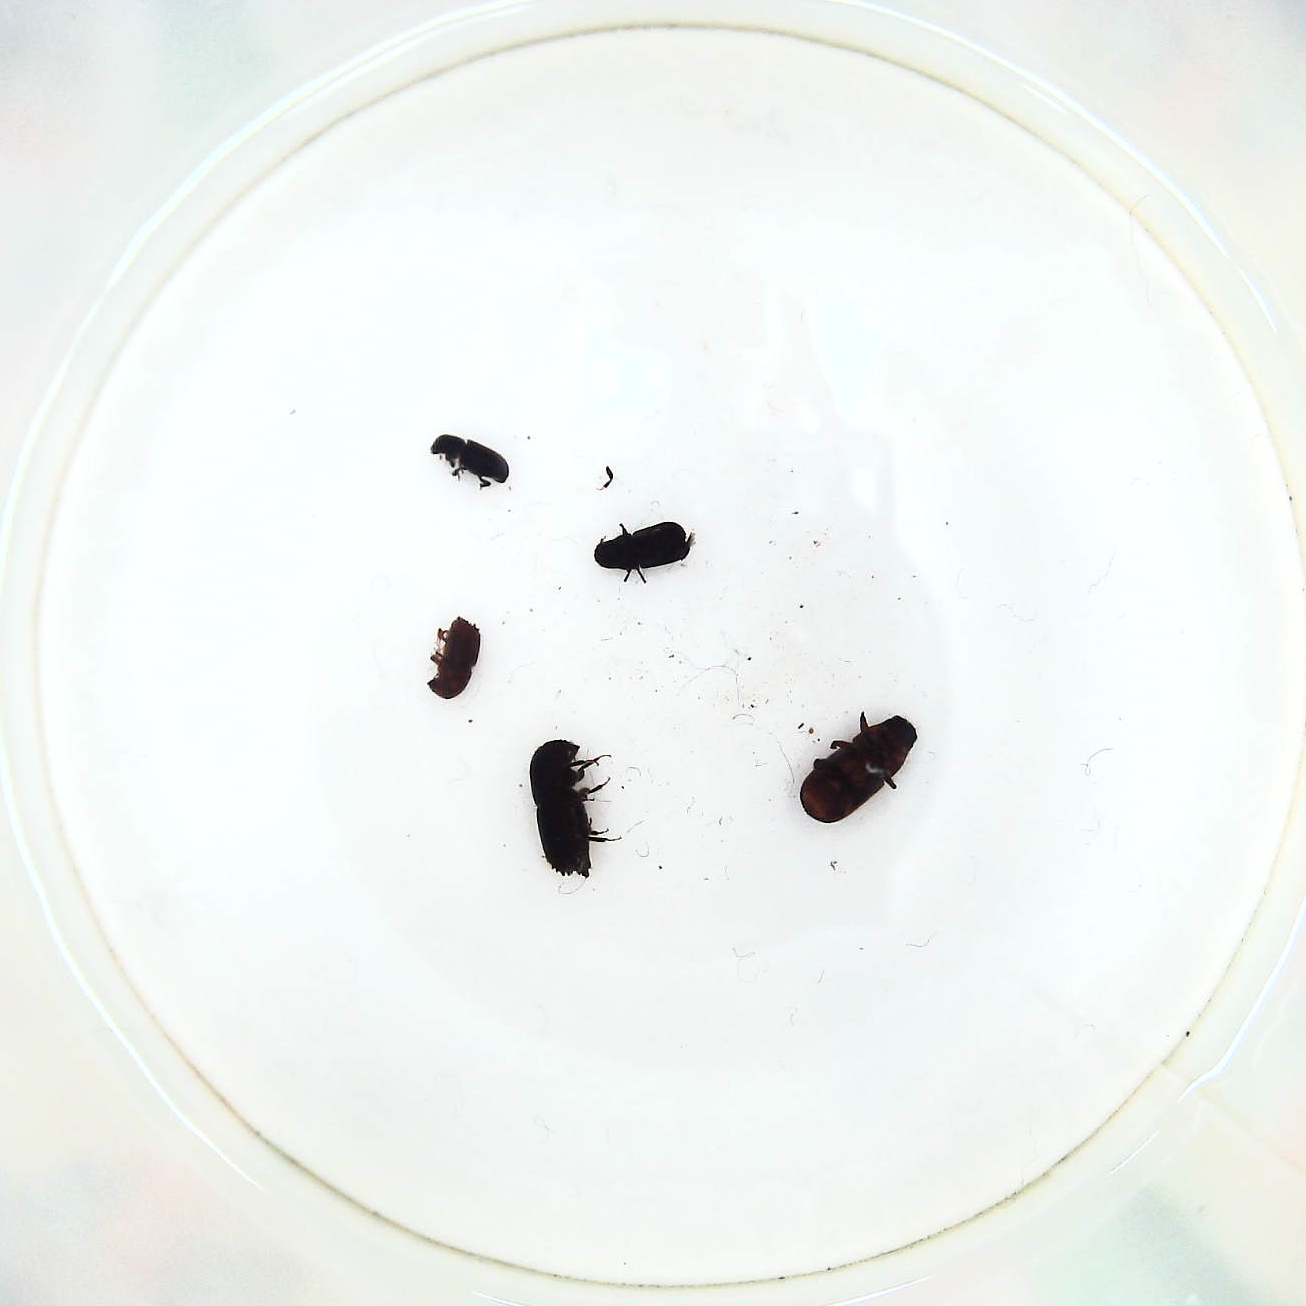Boerner: (527, 736, 622, 881)
Leconte: (798, 708, 922, 825)
armandi: (590, 518, 698, 584)
coleoptera: (429, 428, 512, 492)
linnaeus: (422, 614, 483, 701)
